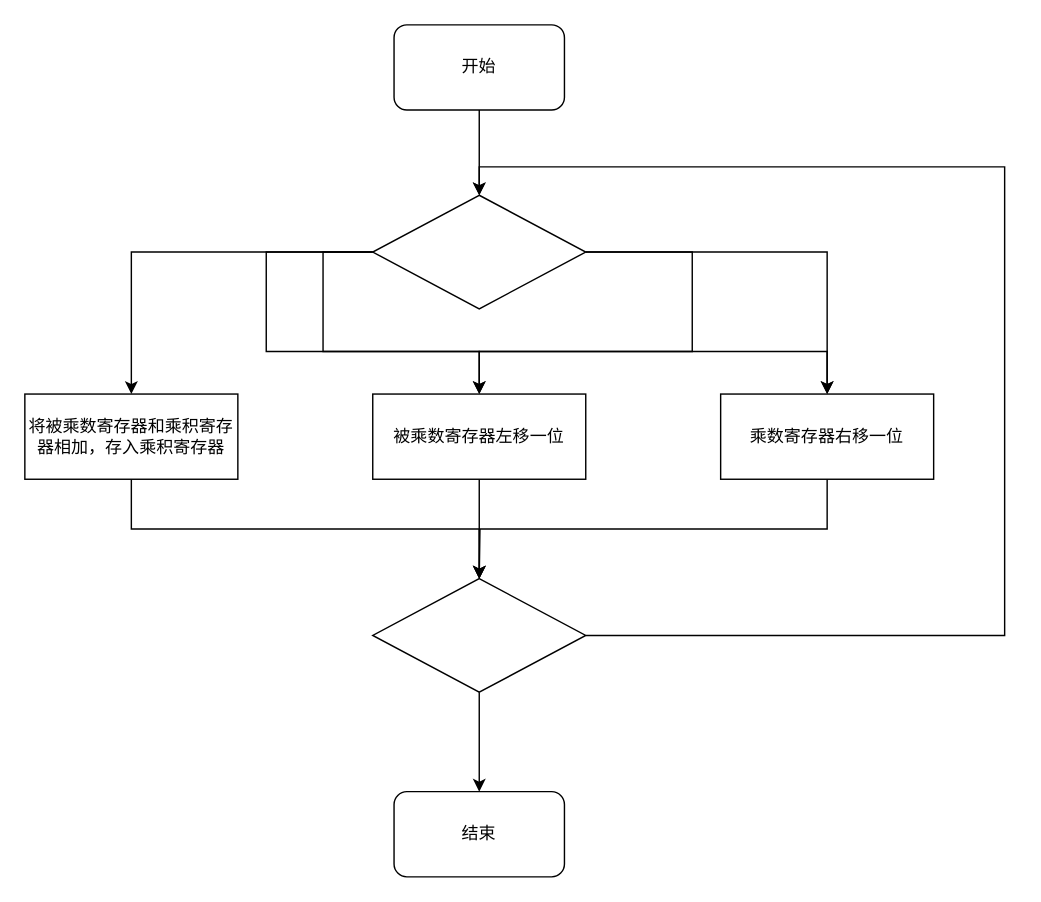
This 1041x902 diagram has some shape labels left out. Here are the shapes that lost their labels. From the top down, the centre of each, then its label:
At point 478,251: "检查乘数寄存器最低位".
At point 478,634: "是否到达第四次循环".
